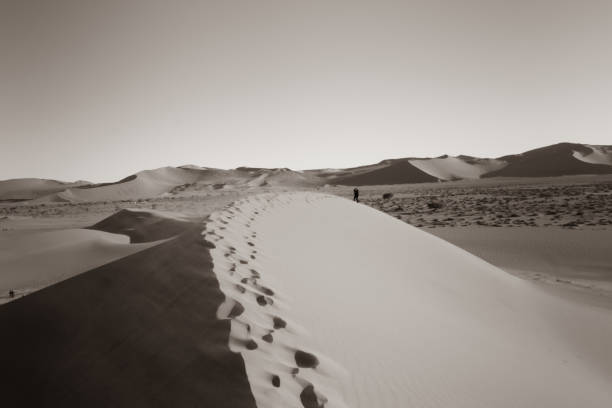human_footprint: (211, 199, 343, 406)
